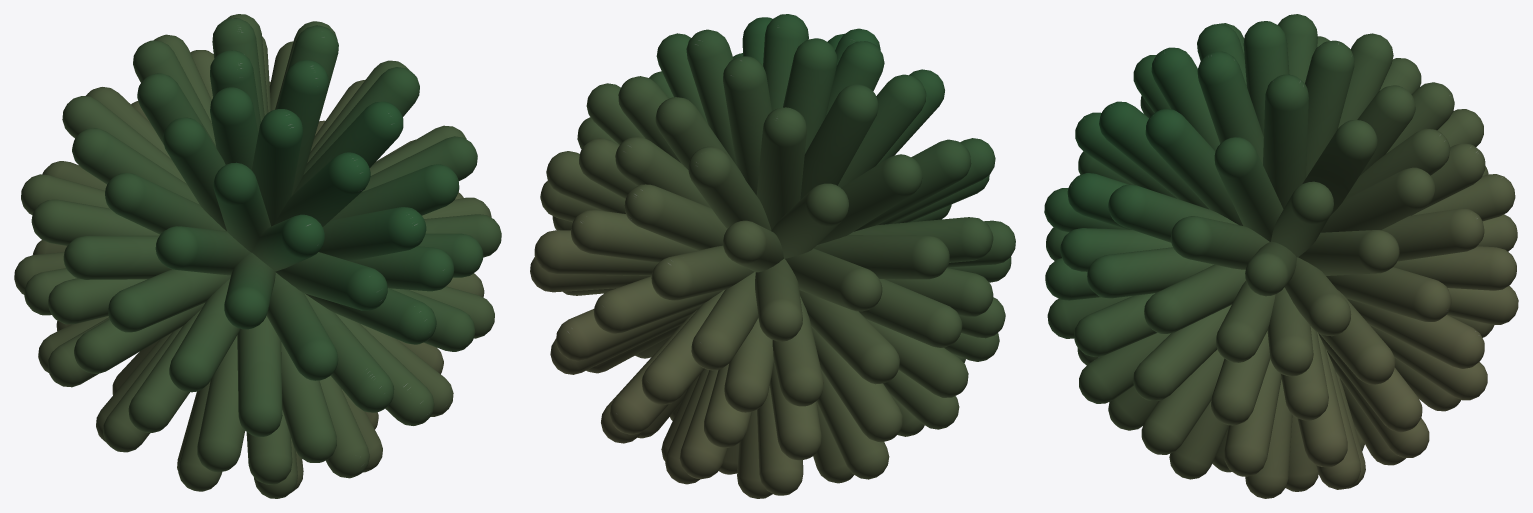
Rendered from 01_bloomspire_inactive.glb.
3 views of the same model, side by side, from view 1: azimuth 30°, elevation 25°; view 2: azimuth 150°, elevation 25°; view 3: azimuth 270°, elevation 25° (orthographic).
Parts seen in each view (by area): view 1: inactive; view 2: inactive; view 3: inactive.
Boxes of the visible parts, x1=… form: inactive: x1=14, y1=14, x2=501, y2=498; inactive: x1=530, y1=14, x2=1015, y2=498; inactive: x1=1044, y1=14, x2=1518, y2=498.
Bounding box in the file's own units: 0.0979 × 0.0962 × 0.0955.
1 material, 1 textured.
